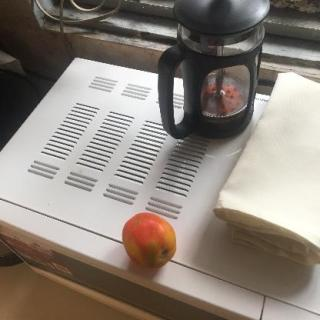Tomat: (117, 208, 184, 268)
